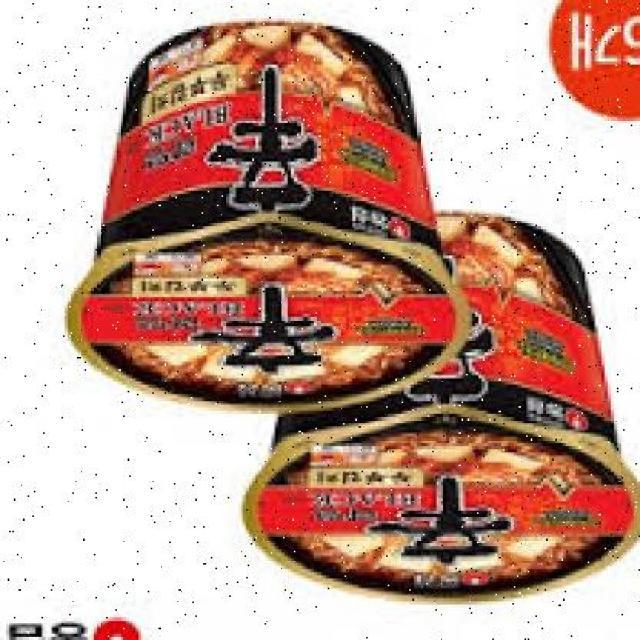Miscellaneous: (249, 213, 640, 615), (81, 32, 444, 397)
